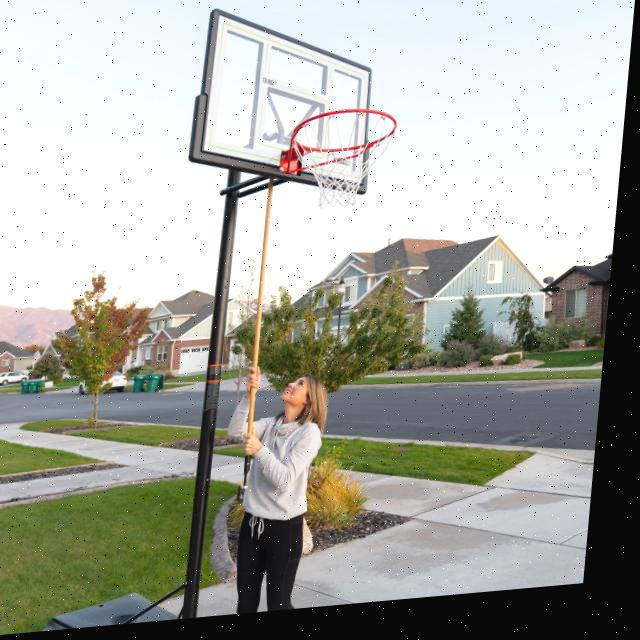hoop: (285, 105, 398, 212)
